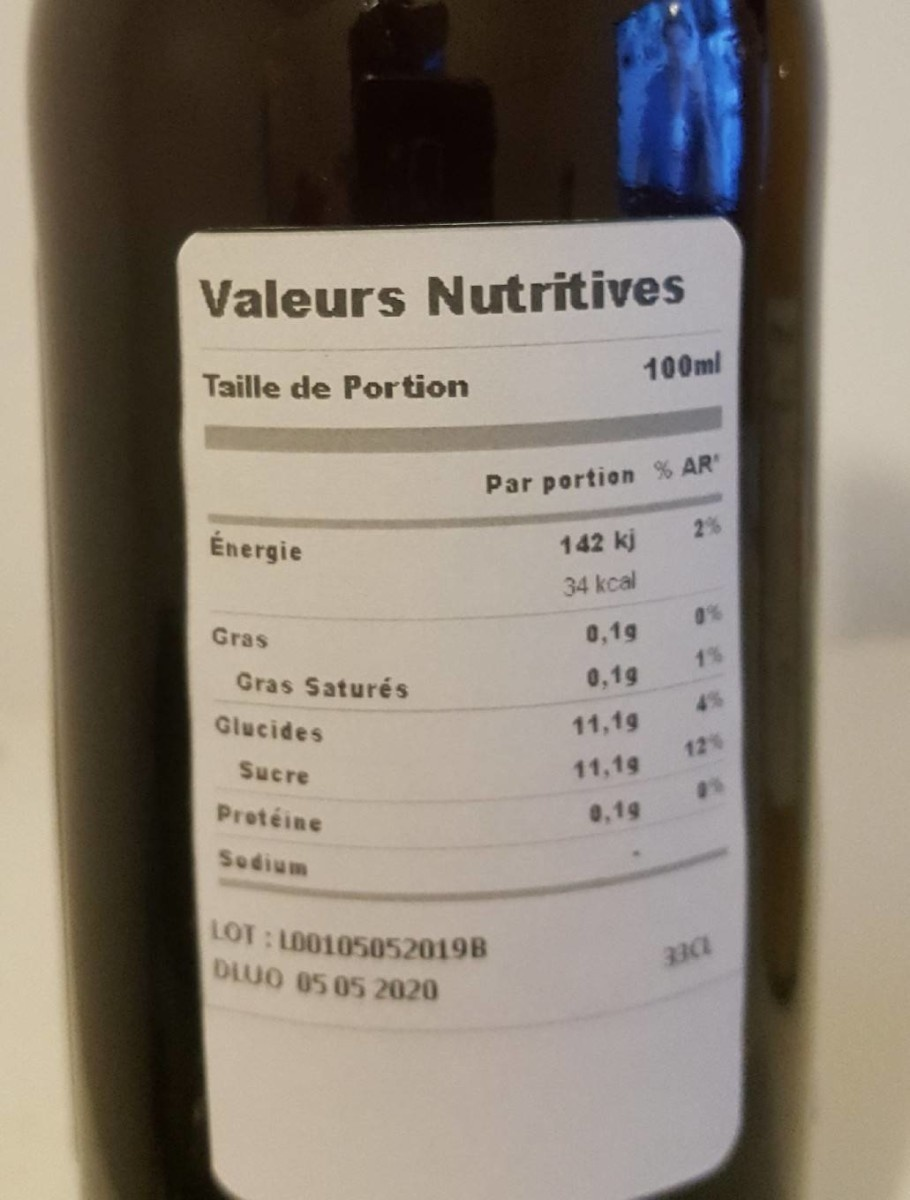column: (210, 521, 408, 886), (483, 459, 647, 890), (656, 450, 727, 890)
table: (192, 239, 750, 901)
